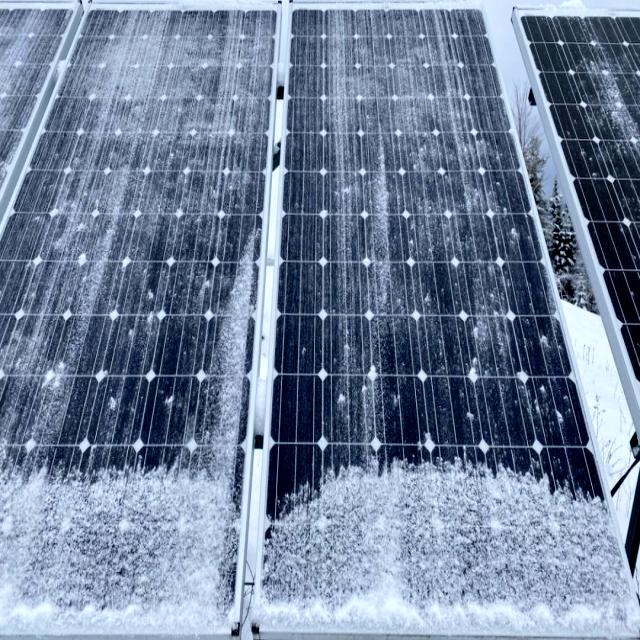panel: (358, 415, 486, 640), (336, 159, 409, 517), (444, 160, 520, 448), (496, 467, 612, 637), (46, 450, 146, 640), (158, 446, 250, 628), (264, 467, 358, 636), (206, 215, 252, 486), (2, 463, 44, 640)
